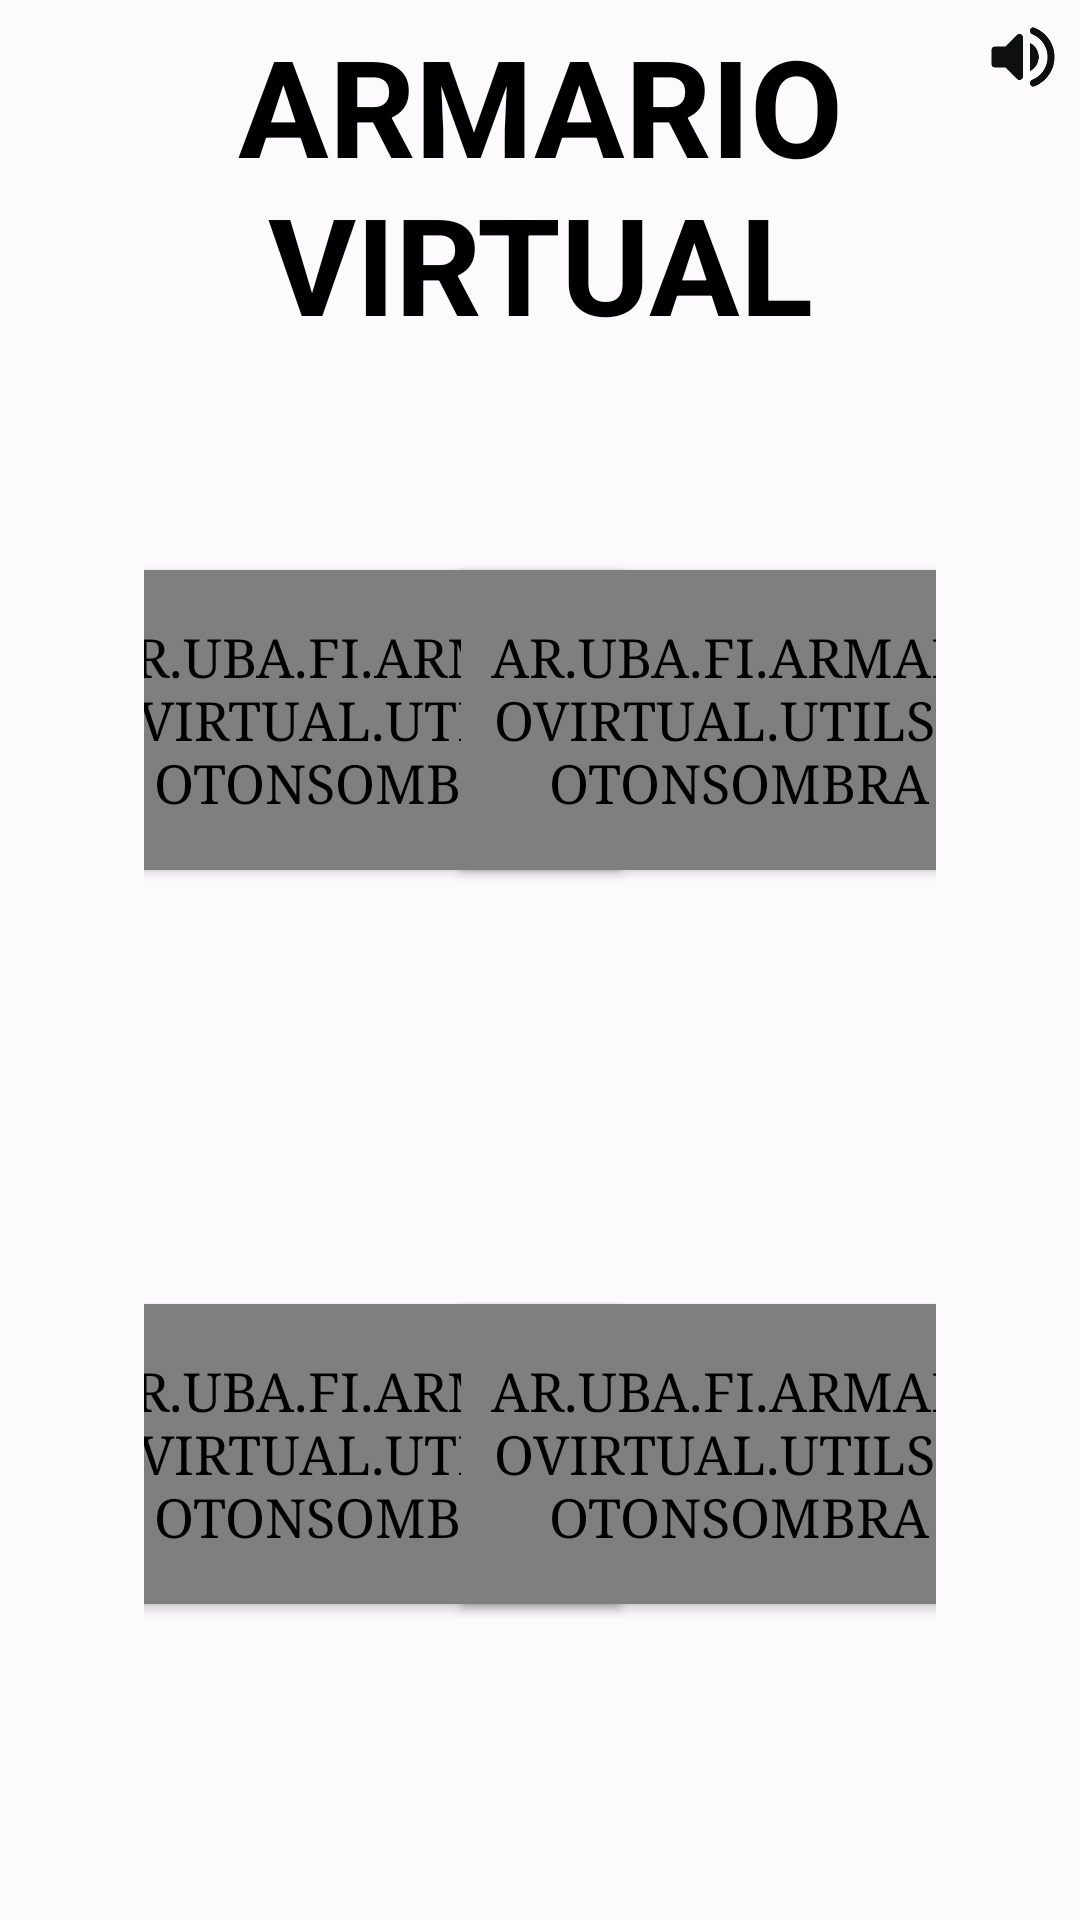

Where icons sit on this 1080px x 1920px app screen, as (x1, y1, x2, y2):
Sonido: (991, 27, 1055, 87)
